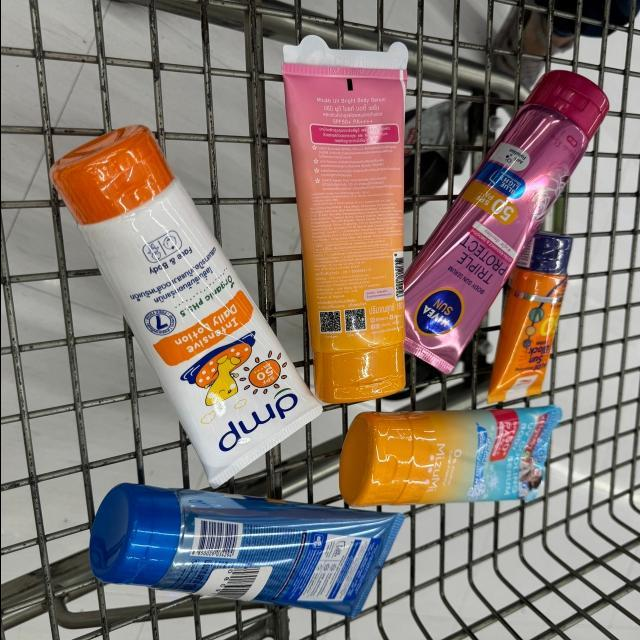Squeeze Tube: (47, 113, 327, 491), (408, 63, 624, 377), (279, 40, 413, 407), (86, 483, 408, 623), (334, 410, 559, 504), (484, 229, 573, 410)
